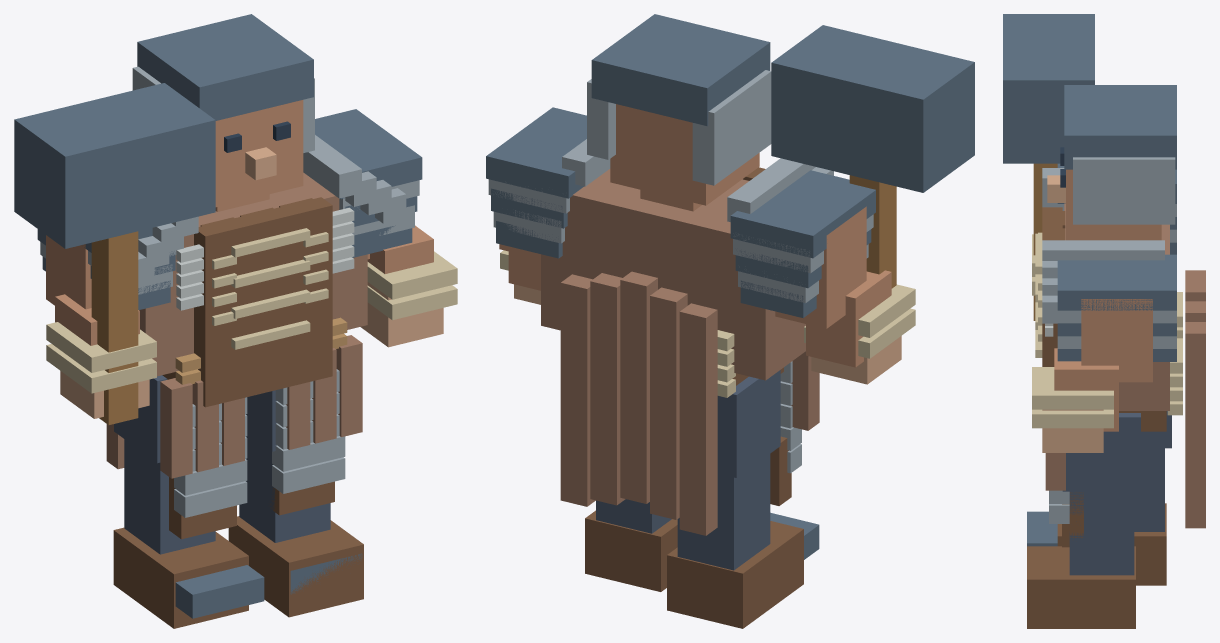
The model's file is arena-q-maul.glb.
3 views of the same model, side by side, from view 1: azimuth 30°, elevation 25°; view 2: azimuth 150°, elevation 25°; view 3: azimuth 270°, elevation 25° (orthographic). The views are drawn at different scales.
Parts seen in each view (by area): view 1: Weapon, Apron, Boots, Shoulders, Helmet, Legs, Skirt, Greaves, Wraps, Cloth, Head, Arms (+7 smaller); view 2: Cape, Weapon, Shoulders, Cloth, Helmet, Boots, Legs, Arms, Head, Wraps, Greaves, Hands (+2 smaller); view 3: Helmet, Shoulders, Legs, Weapon, Boots, Arms, Cape, Wraps, Cloth, Head, Seams, Hands (+7 smaller).
Boxes of the visible parts, x1,y1,x2,y2 form: Weapon: [14, 83, 215, 424]; Apron: [194, 197, 332, 407]; Boots: [113, 516, 363, 628]; Shoulders: [37, 109, 422, 309]; Helmet: [132, 14, 314, 152]; Legs: [114, 375, 330, 554]; Skirt: [160, 335, 362, 478]; Greaves: [169, 369, 345, 539]; Wraps: [46, 251, 457, 393]; Cloth: [139, 172, 367, 376]; Head: [215, 100, 303, 211]; Arms: [46, 225, 433, 345]; Cape: [560, 271, 717, 535]; Weapon: [771, 25, 974, 288]; Shoulders: [486, 107, 875, 317]; Cloth: [541, 169, 805, 380]; Helmet: [587, 14, 771, 185]; Boots: [585, 510, 819, 628]; Legs: [596, 370, 780, 570]; Arms: [499, 206, 891, 367]; Head: [610, 104, 759, 211]; Wraps: [500, 250, 915, 358]; Greaves: [770, 361, 801, 505]; Hands: [514, 284, 901, 384]; Helmet: [1064, 85, 1176, 224]; Shoulders: [1042, 163, 1176, 361]; Legs: [1062, 411, 1171, 575]; Weapon: [1003, 14, 1094, 320]; Boots: [1027, 503, 1166, 628]; Arms: [1054, 299, 1152, 431]; Cape: [1185, 270, 1205, 528]; Wraps: [1032, 234, 1113, 428]; Cloth: [1064, 203, 1169, 410]; Head: [1066, 169, 1161, 240]; Seams: [1035, 233, 1182, 415]; Hands: [1042, 409, 1103, 452].
Size of the model in its own units: 1.62 by 2.02 by 0.7729.
